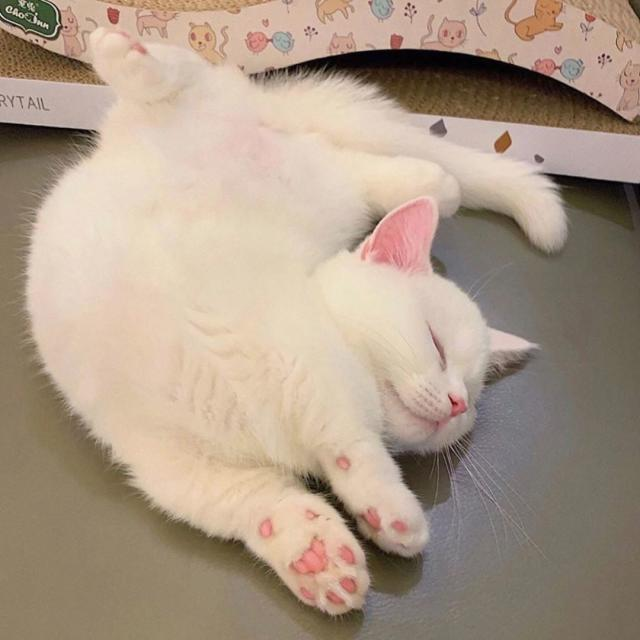da khoe manh: (132, 165, 330, 459)
